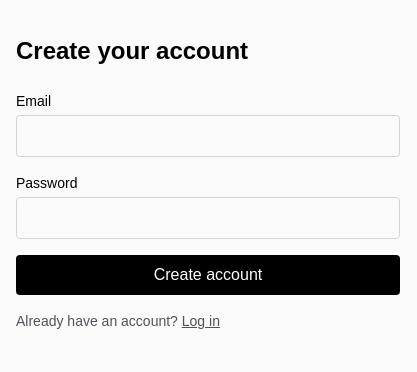
Scenario: register page › shows a duplicate-email error and does not redirect
Type "alice@example.com" into the field labelled "Email". click: point(208, 136)
box: [16,115,400,157]
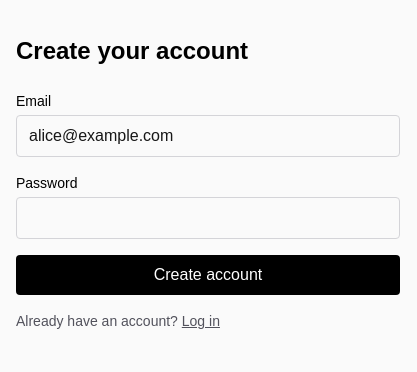
Type "a-valid-password" into the password field labelled "Password". click: point(208, 218)
box: [16,197,400,239]
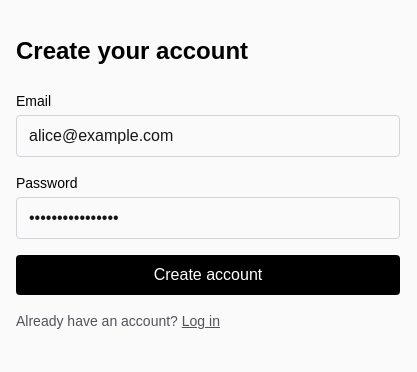
Click the button "Create account". click: point(208, 275)
box: [16,255,400,295]
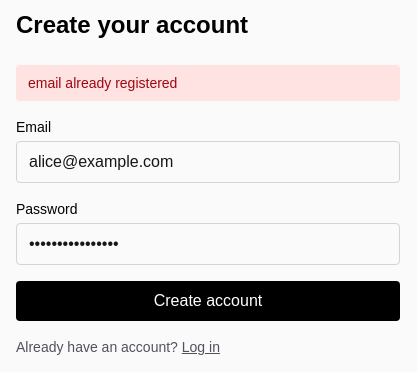
Expected: the message reads "email already registered", [28,75,177,91]
